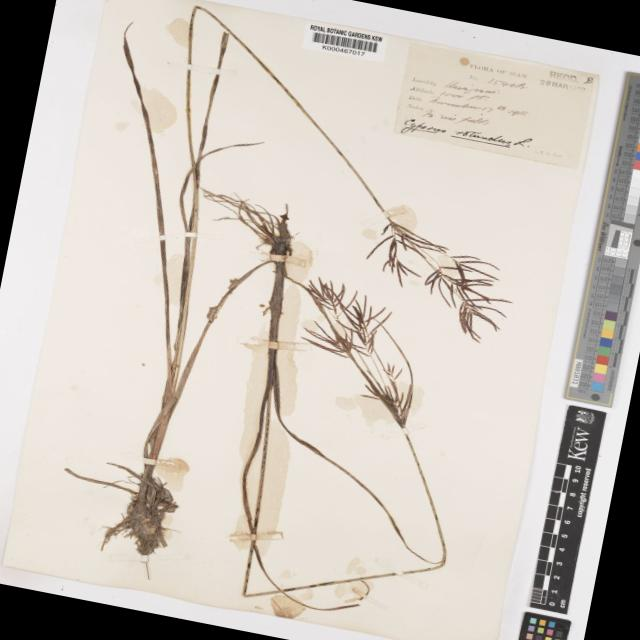cyperus: (260, 266, 450, 430), (359, 207, 534, 350)
